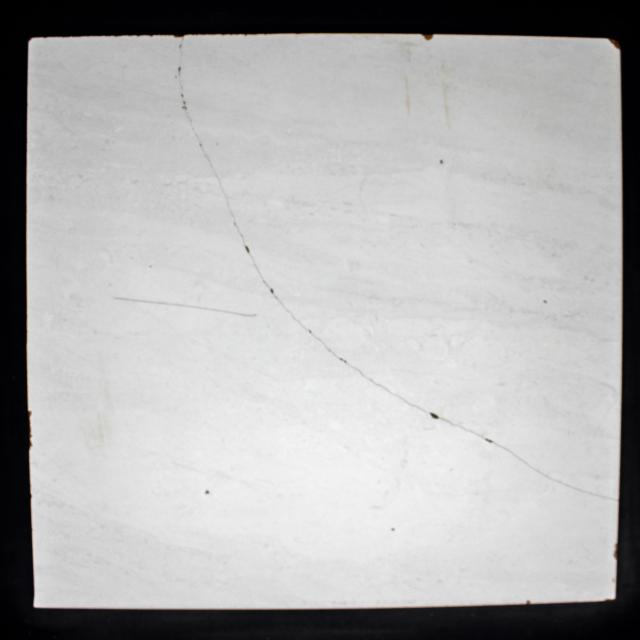edge-chipping: (27, 409, 34, 450), (608, 38, 620, 51), (612, 542, 619, 560), (421, 34, 435, 41), (172, 34, 185, 39), (526, 599, 530, 605)
hole: (429, 412, 440, 420), (269, 287, 274, 295), (439, 158, 444, 166), (204, 489, 210, 495), (177, 66, 182, 72)
line: (494, 443, 551, 479), (372, 382, 428, 412), (552, 480, 618, 501), (328, 348, 370, 381), (184, 304, 258, 318), (442, 419, 484, 438), (112, 296, 182, 306), (298, 321, 326, 346), (210, 162, 227, 202), (191, 125, 209, 162), (228, 204, 245, 243), (249, 254, 268, 287), (274, 296, 297, 320)
